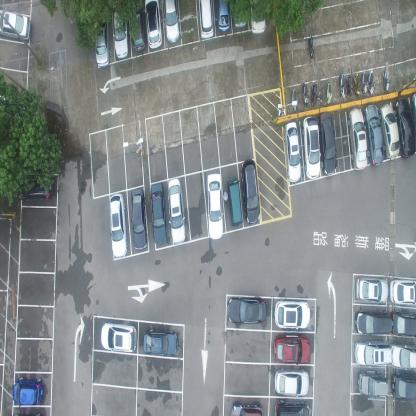car: (392, 97, 416, 160), (363, 103, 384, 166), (240, 158, 260, 224), (109, 191, 128, 260), (317, 110, 337, 175), (348, 107, 368, 169), (100, 321, 137, 354), (206, 173, 224, 240), (226, 296, 267, 325), (168, 178, 186, 244), (379, 102, 400, 158), (19, 167, 54, 200), (302, 115, 320, 179), (131, 185, 148, 251), (283, 121, 301, 183), (274, 299, 310, 330), (274, 333, 310, 364), (150, 181, 167, 245), (0, 8, 31, 43), (142, 327, 178, 356), (274, 367, 309, 396), (113, 0, 129, 61), (94, 12, 111, 69), (355, 310, 392, 336), (355, 340, 392, 366), (12, 376, 44, 406), (357, 368, 389, 398), (226, 175, 243, 228), (145, 0, 163, 49), (130, 0, 146, 53), (356, 277, 388, 303), (162, 0, 180, 45), (390, 278, 416, 308), (390, 341, 415, 371), (392, 372, 415, 402), (198, 0, 214, 42), (392, 311, 415, 340), (274, 398, 310, 416), (249, 0, 266, 37), (230, 400, 263, 416), (215, 0, 230, 34), (232, 0, 247, 29)
